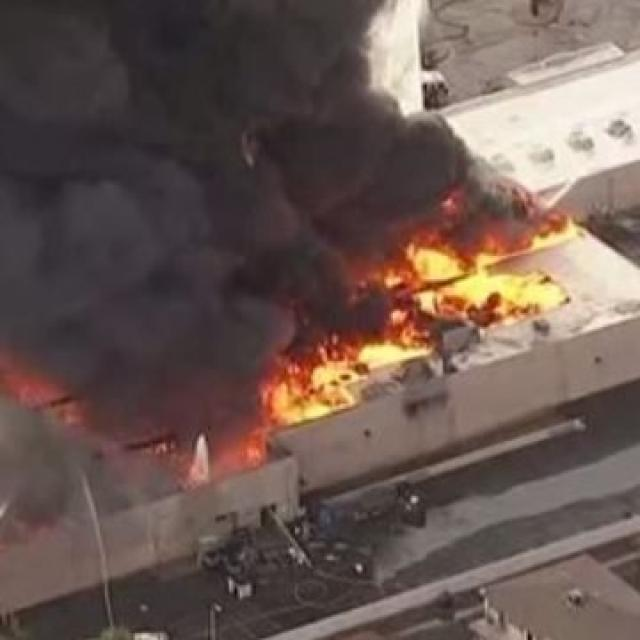Fire: (356, 222, 597, 332), (257, 329, 402, 438)
Smoke: (0, 14, 390, 364)
